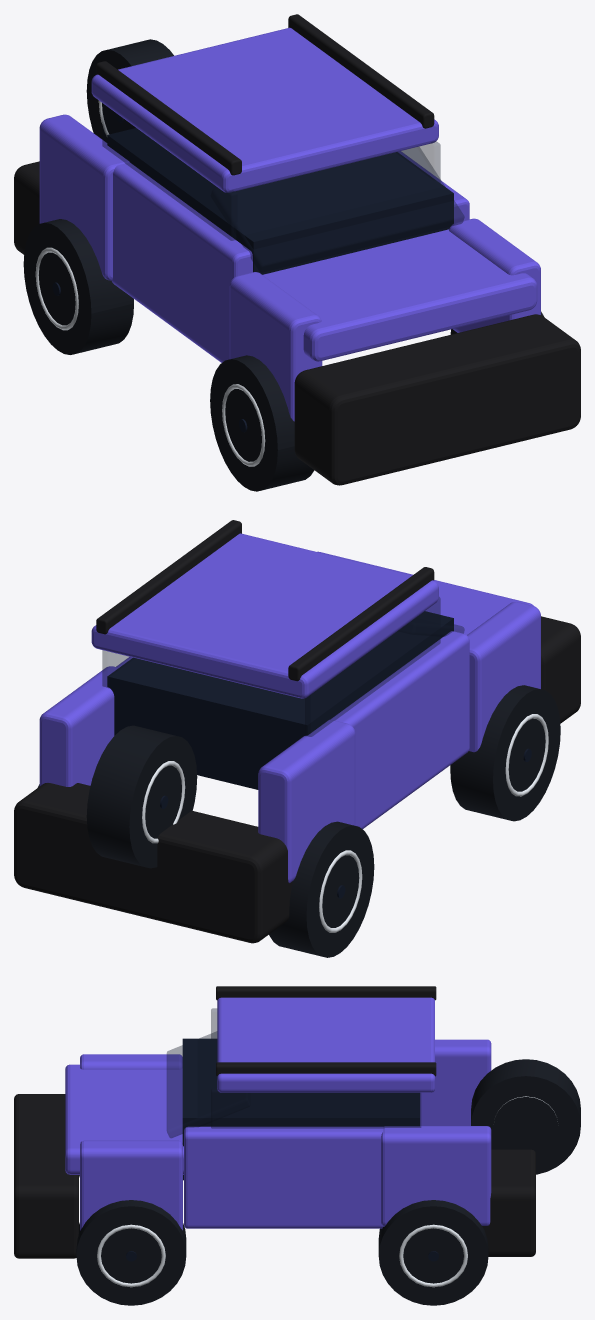
The model's file is rugged-4x4-suv.glb.
The picture shows the model from 3 angles, top to bottom: view 1: azimuth 30°, elevation 25°; view 2: azimuth 150°, elevation 25°; view 3: azimuth 270°, elevation 25°; orthographic projection. The views are drawn at different scales.
Parts seen in each view (by area): view 1: body_bumper_front, body_roof, object 1, body_bonnet, glass_windshield, wheel_tire_rl, body_door_front_left, wheel_tire_fl, body_quarter_rear_left, body_door_rear_left, body_fender_front_left, glass_windows_left (+9 smaller); view 2: body_roof, body_bumper_rear, object 1, wheel_spare_rear, body_quarter_rear_left, wheel_tire_fl, wheel_tire_rl, body_door_front_left, body_door_rear_left, body_fender_front_left, body_quarter_rear_right, glass_windows_left (+9 smaller); view 3: body_roof, body_door_front_right, object 1, body_bumper_front, body_quarter_rear_right, body_door_rear_right, body_bonnet, wheel_spare_rear, wheel_tire_fr, wheel_tire_rr, glass_windows_right, body_fender_front_right (+8 smaller).
Part boxes in pixels (x1,y1,x2,y2): body_bumper_front: (294,314,580,485); body_roof: (91,27,438,192); object 1: (107,128,453,274); body_bonnet: (263,229,537,361); glass_windshield: (211,147,464,272); wheel_tire_rl: (23,219,133,354); body_door_front_left: (166,202,252,362); wheel_tire_fl: (210,355,314,491); body_quarter_rear_left: (39,114,129,280); body_door_rear_left: (112,162,185,323); body_fender_front_left: (229,272,322,421); glass_windows_left: (102,103,237,240); body_roof: (91,533,438,698); body_bumper_rear: (14,783,292,943); object 1: (107,611,453,789); wheel_spare_rear: (86,725,197,868); body_quarter_rear_left: (258,719,355,882); wheel_tire_fl: (450,685,560,821); wheel_tire_rl: (269,821,374,957); body_door_front_left: (388,631,469,800); body_door_rear_left: (331,677,405,829); body_fender_front_left: (467,602,540,752); body_quarter_rear_right: (39,666,118,786); glass_windows_left: (305,597,440,736); body_roof: (217,997,434,1092); body_door_front_right: (184,1126,294,1228); object 1: (182,1038,419,1180); body_bumper_front: (14,1094,78,1258); body_quarter_rear_right: (381,1126,491,1226); body_door_rear_right: (290,1126,382,1228); body_bonnet: (65,1064,183,1174); wheel_spare_rear: (471,1059,580,1174); wheel_tire_fr: (76,1200,186,1305); wheel_tire_rr: (378,1200,488,1305); glass_windows_right: (211,1089,420,1128); body_fender_front_right: (80,1140,182,1230).
Bounding box in the file's own units: 2.14 × 1.98 × 4.54.
